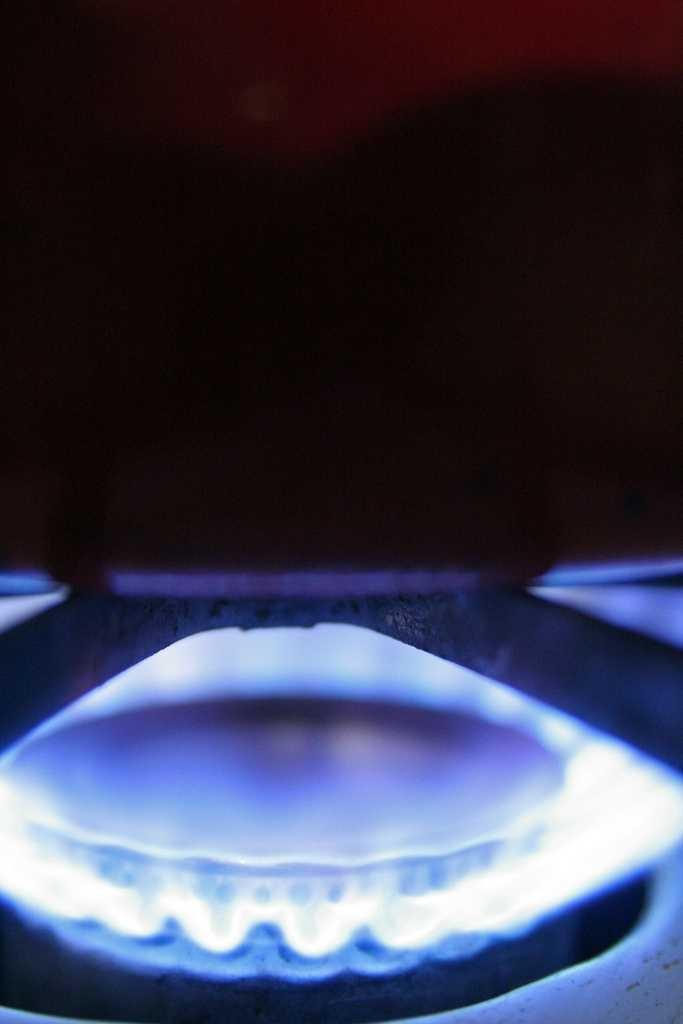fire: (5, 765, 675, 955)
